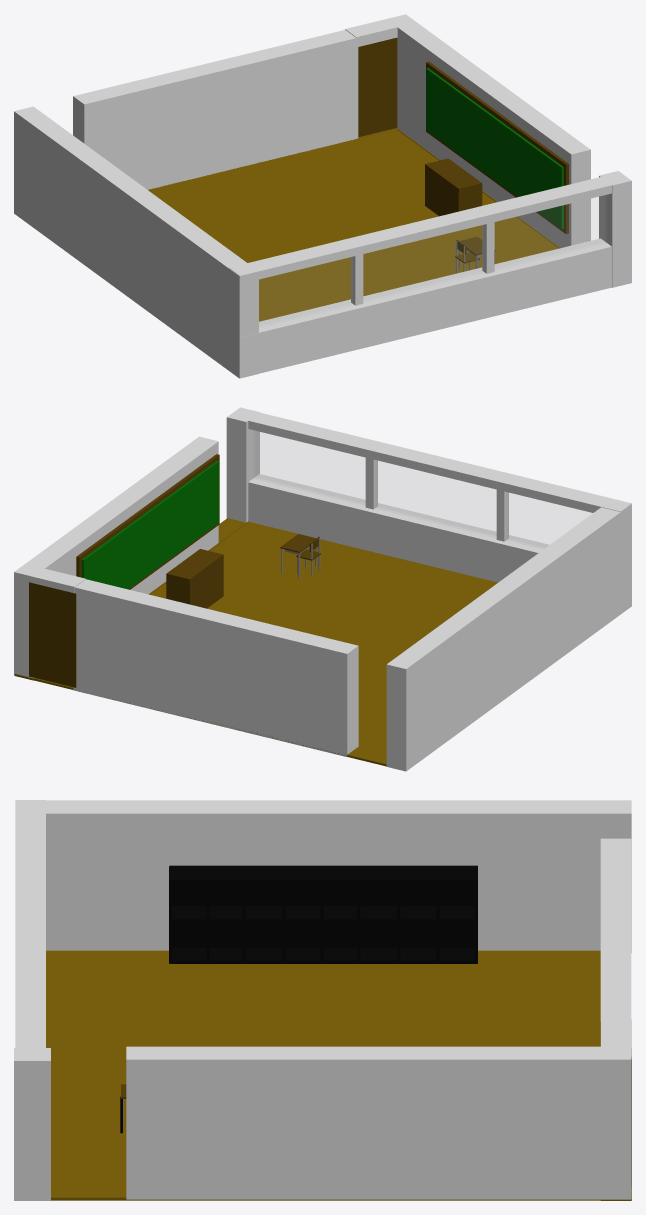
Rendered from classroom2-1.fbx.
3 renders of one model, top to bottom at view 1: azimuth 30°, elevation 25°; view 2: azimuth 150°, elevation 25°; view 3: azimuth 270°, elevation 25°, orthographic. The views are drawn at different scales.
Parts seen in each view (by area): view 1: classroom1_1:classroom_floor1classroom, classroom1_1:classroomleft_wallleft_wall3, classroom1_1:classroomclassroom_wall2, classroom1_1:classroomright_wallright_wall2, classroom1_1:classroomright_wallright_wall_glass1, classroom1_1:classroomclassroom_wall1, classroom1_1:classroomblackboard1blackboard, classroom1_1:classroomright_wall1right_wall, classroom1_1:classroomleft_wallleft_door1, classroom1_1:classroomclassroom_wall3, classroom1_1:classroomblackboardblackboard2, classroom1_1:classroomlecternboard3 (+4 smaller); view 2: classroom1_1:classroomleft_wallleft_wall3, classroom1_1:classroomclassroom_wall2, classroom1_1:classroom_floor1classroom, classroom1_1:classroomright_wallright_wall2, classroom1_1:classroomright_wallright_wall_glass1, classroom1_1:classroomclassroom_wall1, classroom1_1:classroomblackboard1blackboard, classroom1_1:classroomright_wall1right_wall, classroom1_1:classroomleft_wallleft_door1, classroom1_1:classroomclassroom_wall3, classroom1_1:classroomblackboardblackboard2, classroom1_1:classroomlecternboard3 (+7 smaller); view 3: classroom1_1:classroomclassroom_wall1, classroom1_1:classroom_floor1classroom, classroom1_1:classroomclassroom_wall2, classroom1_1:classroomlockerlocker_board2, classroom1_1:classroomright_wall1right_wall, classroom1_1:classroomleft_wallleft_wall3, classroom1_1:classroomclassroom_wall3, classroom1_1:classroomlockerlocker_board4, classroom1_1:classroomlocker_board1locker, classroom1_1:classroomlockerlocker_board13, classroom1_1:classroomleft_wallleft_wall2, classroom1_1:classroomleft_wall1left_wall.
Part boxes in pixels (x1,y1,x2,y2): classroom1_1:classroom_floor1classroom: [148, 129, 558, 321]; classroom1_1:classroomleft_wallleft_wall3: [73, 30, 358, 189]; classroom1_1:classroomclassroom_wall2: [14, 106, 258, 378]; classroom1_1:classroomright_wallright_wall2: [240, 238, 611, 378]; classroom1_1:classroomright_wallright_wall_glass1: [259, 195, 606, 325]; classroom1_1:classroomclassroom_wall1: [386, 14, 590, 247]; classroom1_1:classroomblackboard1blackboard: [426, 68, 563, 228]; classroom1_1:classroomright_wall1right_wall: [229, 172, 630, 283]; classroom1_1:classroomleft_wallleft_door1: [358, 37, 397, 137]; classroom1_1:classroomclassroom_wall3: [599, 171, 631, 287]; classroom1_1:classroomblackboardblackboard2: [426, 61, 568, 234]; classroom1_1:classroomlecternboard3: [426, 166, 457, 216]; classroom1_1:classroomleft_wallleft_wall3: [73, 579, 358, 756]; classroom1_1:classroomclassroom_wall2: [386, 504, 631, 771]; classroom1_1:classroom_floor1classroom: [150, 522, 497, 753]; classroom1_1:classroomright_wallright_wall2: [248, 474, 549, 582]; classroom1_1:classroomright_wallright_wall_glass1: [254, 431, 591, 547]; classroom1_1:classroomclassroom_wall1: [14, 436, 218, 678]; classroom1_1:classroomblackboard1blackboard: [81, 460, 219, 589]; classroom1_1:classroomright_wall1right_wall: [229, 408, 631, 512]; classroom1_1:classroomleft_wallleft_door1: [29, 582, 76, 687]; classroom1_1:classroomclassroom_wall3: [226, 407, 259, 522]; classroom1_1:classroomblackboardblackboard2: [76, 454, 219, 589]; classroom1_1:classroomlecternboard3: [190, 556, 222, 608]; classroom1_1:classroomclassroom_wall1: [126, 1046, 631, 1199]; classroom1_1:classroom_floor1classroom: [46, 950, 600, 1184]; classroom1_1:classroomclassroom_wall2: [46, 800, 631, 952]; classroom1_1:classroomlockerlocker_board2: [169, 865, 477, 947]; classroom1_1:classroomright_wall1right_wall: [15, 800, 45, 1060]; classroom1_1:classroomleft_wallleft_wall3: [600, 838, 631, 1046]; classroom1_1:classroomclassroom_wall3: [14, 1048, 50, 1200]; classroom1_1:classroomlockerlocker_board4: [169, 866, 477, 882]; classroom1_1:classroomlocker_board1locker: [169, 948, 477, 963]; classroom1_1:classroomlockerlocker_board13: [169, 906, 477, 921]; classroom1_1:classroomleft_wallleft_wall2: [51, 1184, 631, 1200]; classroom1_1:classroomleft_wall1left_wall: [601, 1019, 631, 1056].
Size of the model in its own units: 100 by 25.36 by 100.
